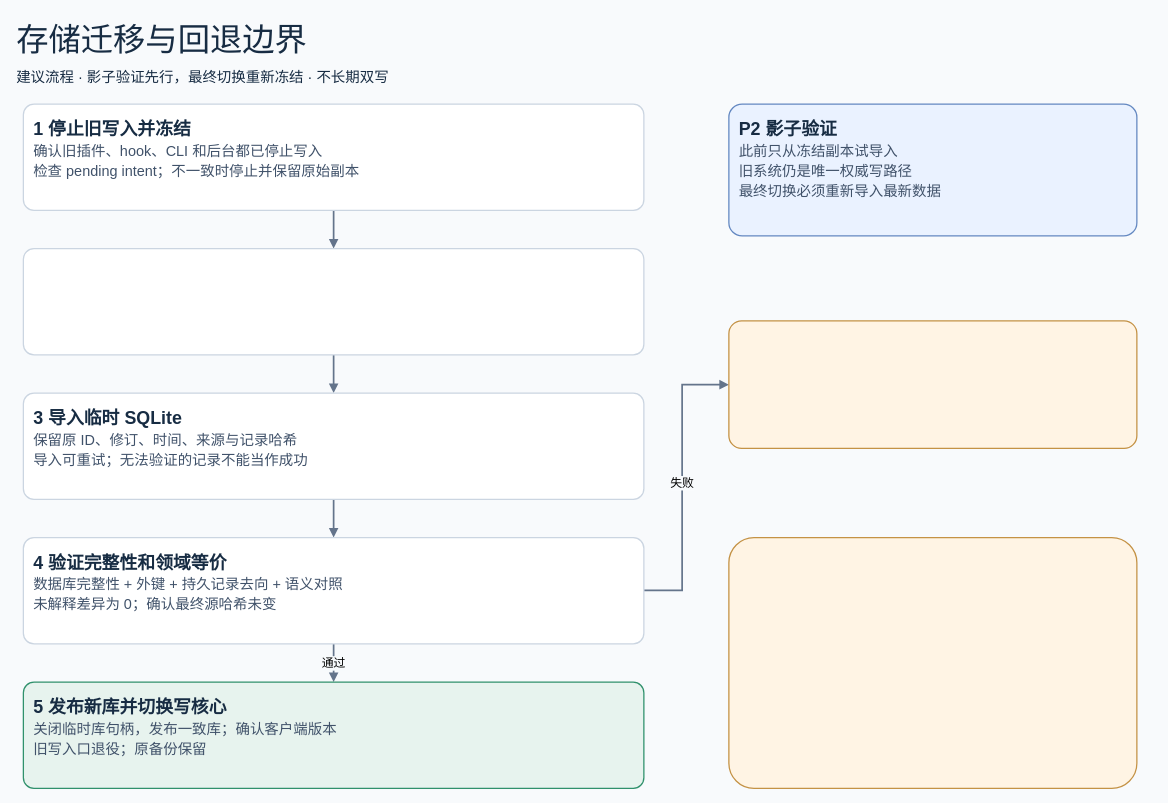
The diagram is 1168 pixels wide and 803 high, and some of its shapes have lost their labels. The centre of each missing label's shape, as x and y in pixels:
"2 创建外部备份 备份旧日志、路线、关联水位和必要 Context 对象 保存源哈希与清单；备份放在 Git 目录之外" belongs at (333,301).
"回退分界 新库尚未接受写入： 可恢复旧存储为权威 新库已经确认新记录： 先验证反向导出覆盖所有新记录 不能无损表达时保持只读并前向修复 禁止直接退回旧快照" belongs at (932,663).
"验证失败：停止切换 保留旧存储与临时库诊断 修复导入器后重新验证 不删除旧数据、不自动清空" belongs at (932,384).
